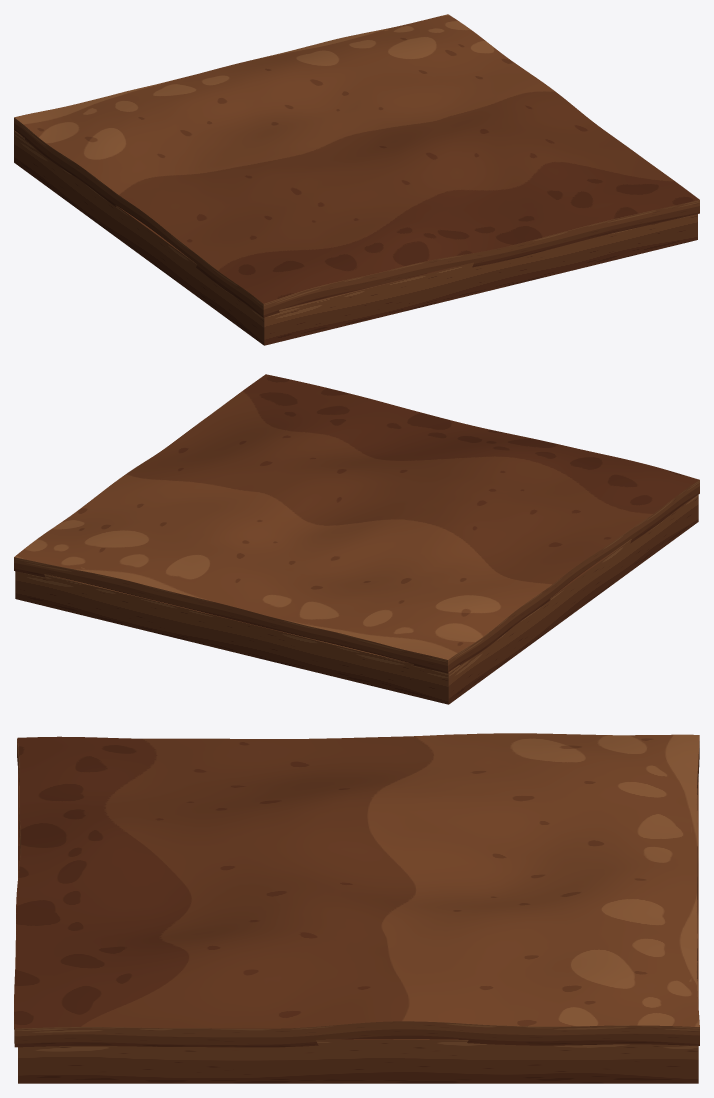
File: ччч.fbx
3 renders of one model, top to bottom at view 1: azimuth 30°, elevation 25°; view 2: azimuth 150°, elevation 25°; view 3: azimuth 270°, elevation 25°, orthographic. The views are drawn at different scales.
Parts seen in each view (by area): view 1: Объект_Куб, Объект_Куб_1; view 2: Объект_Куб, Объект_Куб_1; view 3: Объект_Куб, Объект_Куб_1.
Boxes of the visible parts, x1,y1,x2,y2 form: Объект_Куб: (14, 14, 699, 317); Объект_Куб_1: (14, 130, 697, 345); Объект_Куб: (14, 374, 699, 673); Объект_Куб_1: (15, 494, 698, 704); Объект_Куб: (14, 733, 699, 1047); Объект_Куб_1: (18, 765, 698, 1083).
Bounding box in the file's own units: 500 × 65.2 × 501.
1 material, 1 textured.
